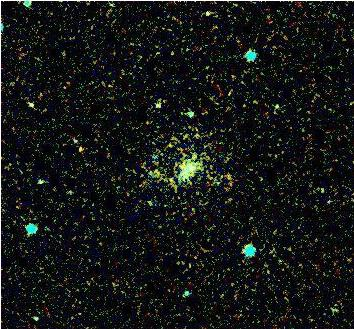star: (65, 133, 95, 163)
